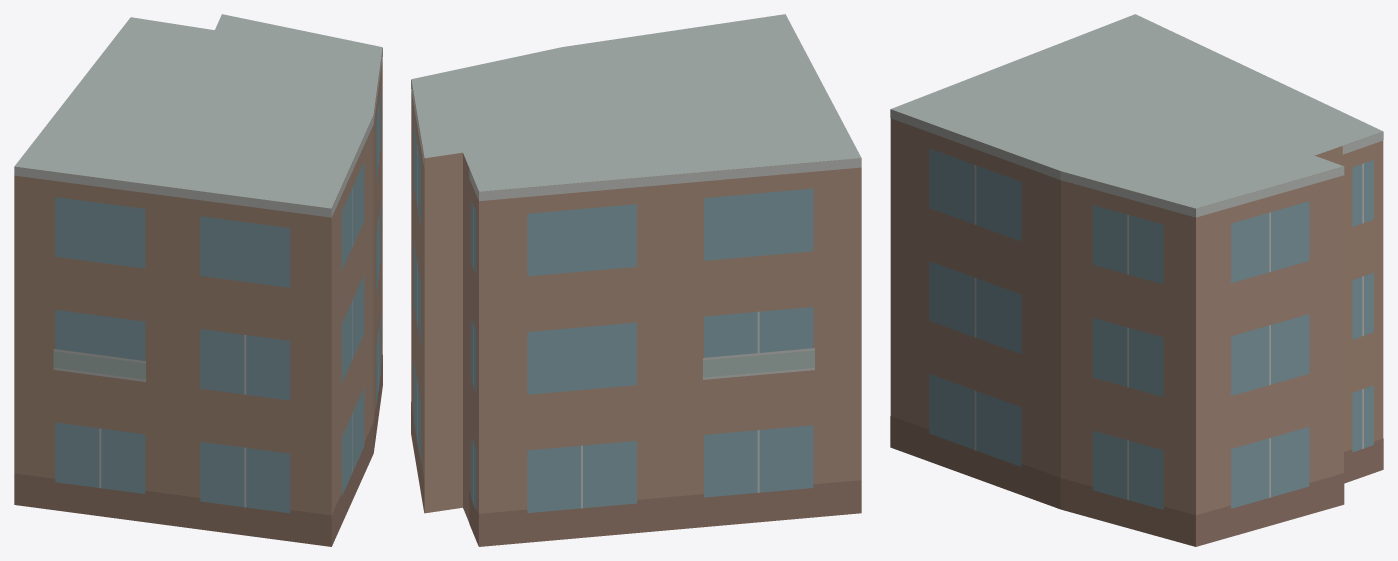
The model's file is survey-upis-33017216.glb.
3 views of the same model, side by side, from view 1: azimuth 30°, elevation 25°; view 2: azimuth 150°, elevation 25°; view 3: azimuth 270°, elevation 25° (orthographic). The views are drawn at different scales.
Visible parts, largest first — view 1: survey-upis-33017216.tmp; view 2: survey-upis-33017216.tmp; view 3: survey-upis-33017216.tmp.
Boxes of the visible parts, left/top/right/bottom form: survey-upis-33017216.tmp: left=14, top=14, right=382, bottom=546; survey-upis-33017216.tmp: left=411, top=14, right=861, bottom=546; survey-upis-33017216.tmp: left=890, top=14, right=1383, bottom=546.
Size of the model in its own units: 11.3 by 9.15 by 12.09.
